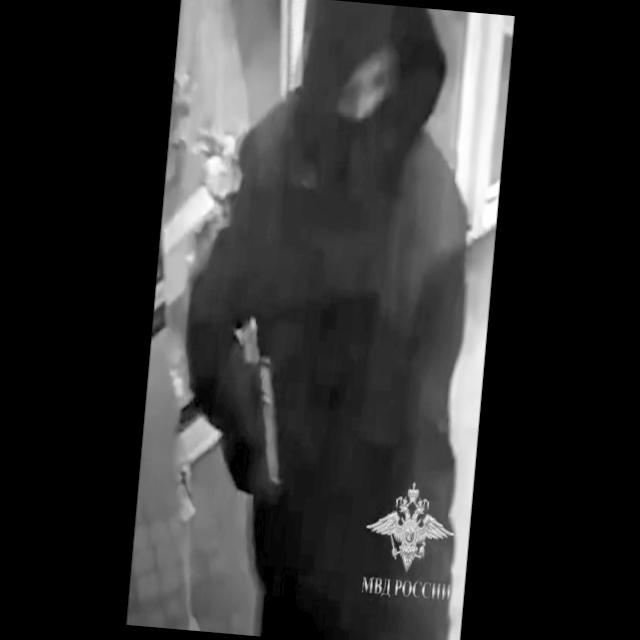gun: (232, 348, 290, 511)
person with a gun: (163, 0, 501, 640)
